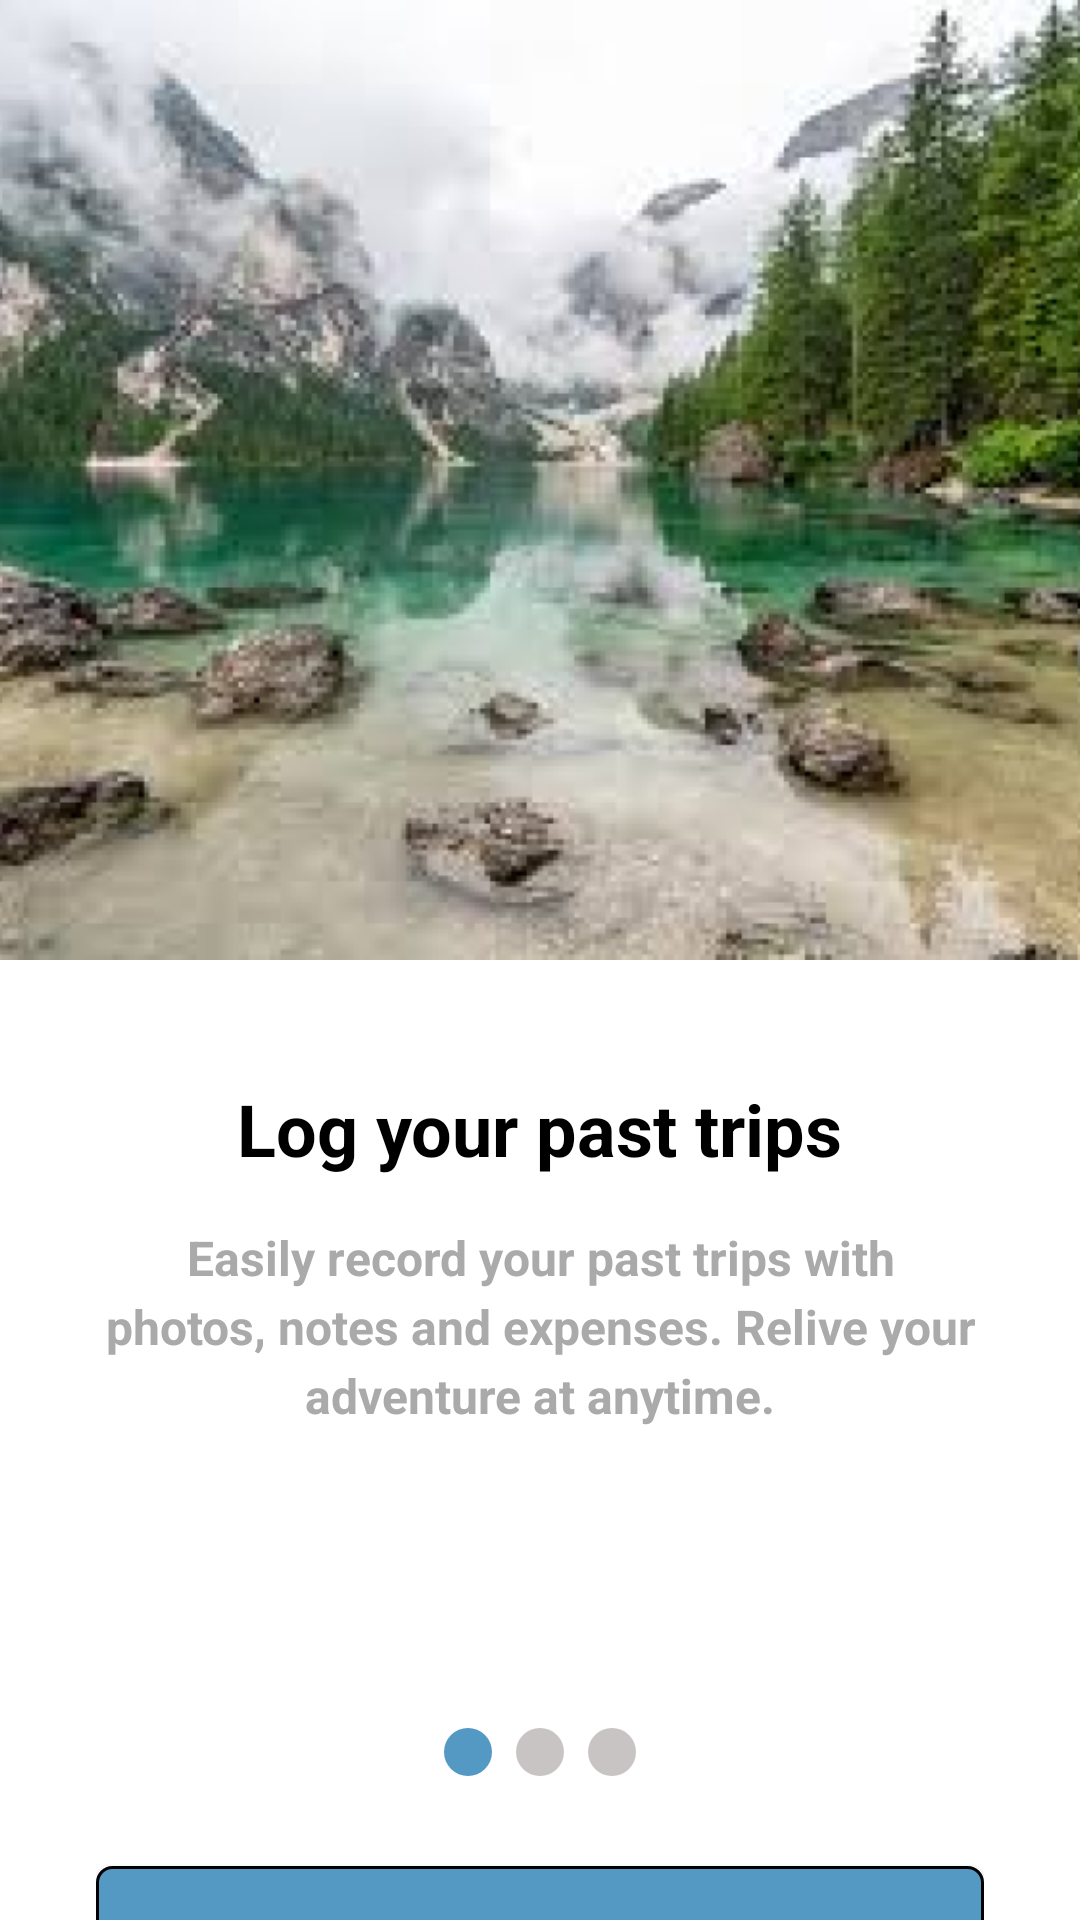

Where to tap for icons on this 1080w x 1920h app screen, as (x,y):
dot: (468,1752), (540,1752), (612,1752)
